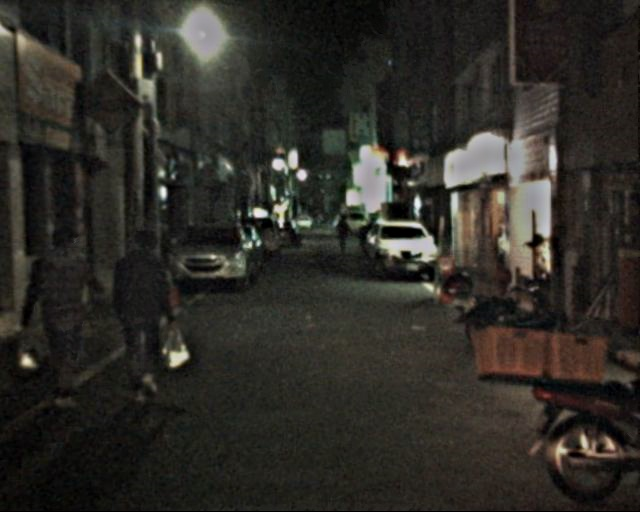person: (26, 222, 104, 404), (109, 225, 181, 406), (332, 213, 350, 254)
